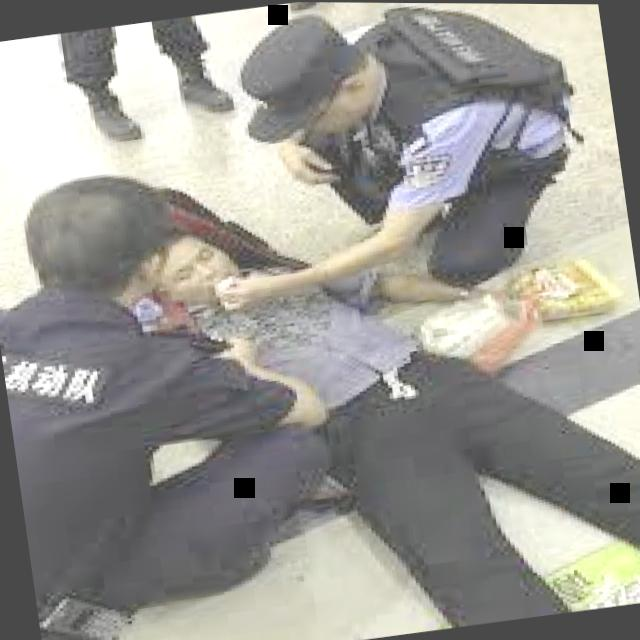Fall-Detected: (153, 127, 640, 640)
